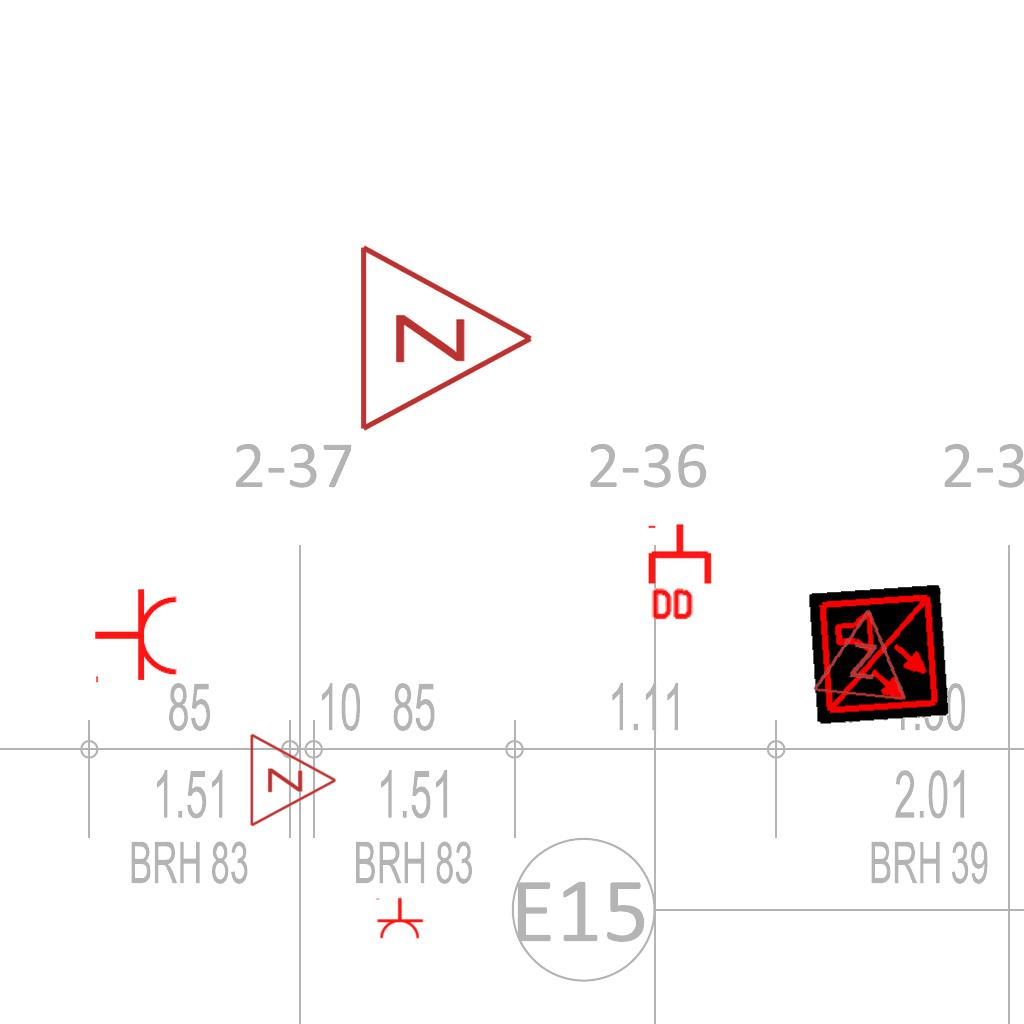Datenanschluss_zweifach: (647, 521, 716, 624)
OKW_Multisensormelder_(Kombination_optischer_Rauch-Kahlenmonoxid_Waerme-Melder): (808, 584, 950, 726)
Schukosteckdose_einfach: (93, 587, 180, 687), (374, 897, 424, 940)
Zimmersignalleuchte: (346, 238, 546, 434), (809, 598, 917, 708), (243, 730, 343, 828)
